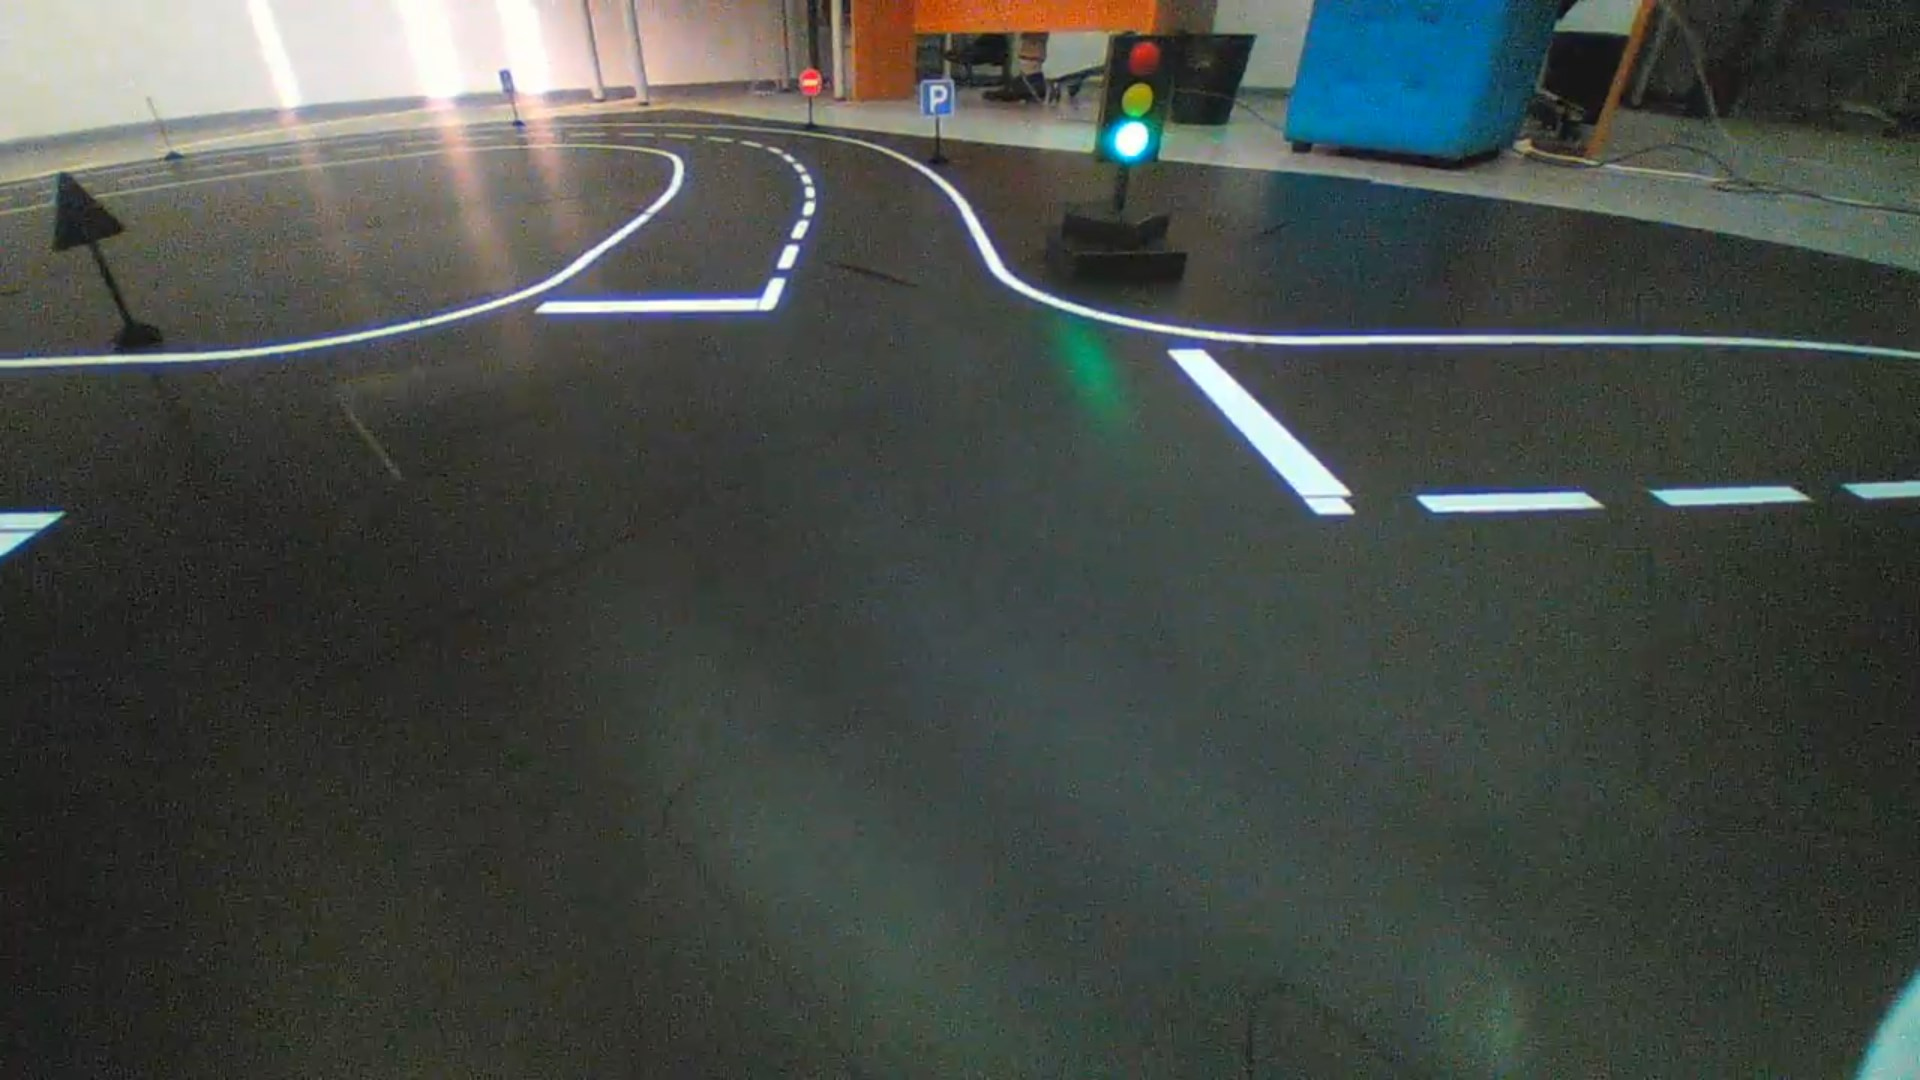trafficlight: (1092, 34, 1182, 164)
